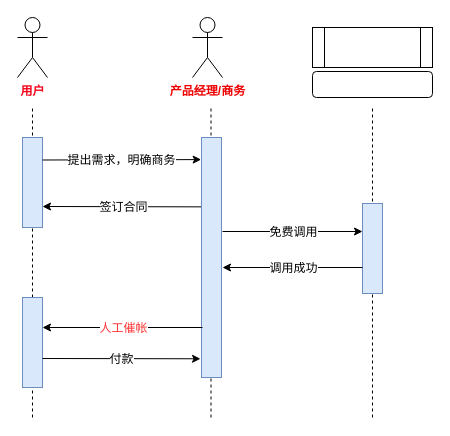
Some shapes in this 450 by 436 pixel diagram are drawn without their labels. The shapes that lost their labels are listed below. From the top down, each one's box as (x1, y1, x2, y2) in pixels, then its label:
(312, 26, 432, 68): 原子能力平台
(312, 70, 432, 98): 语音API
